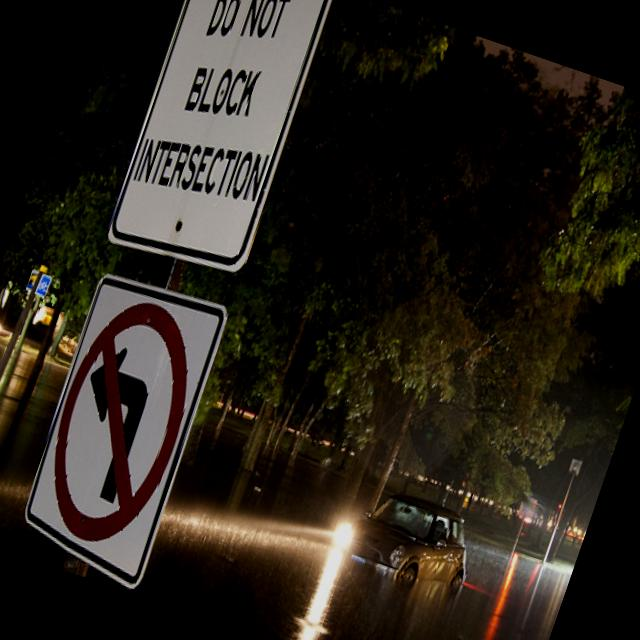Vehicle: (324, 474, 486, 596)
